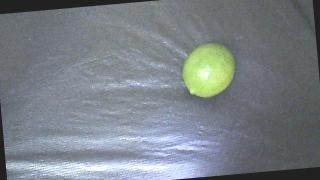LOCAL: (181, 41, 238, 99)
